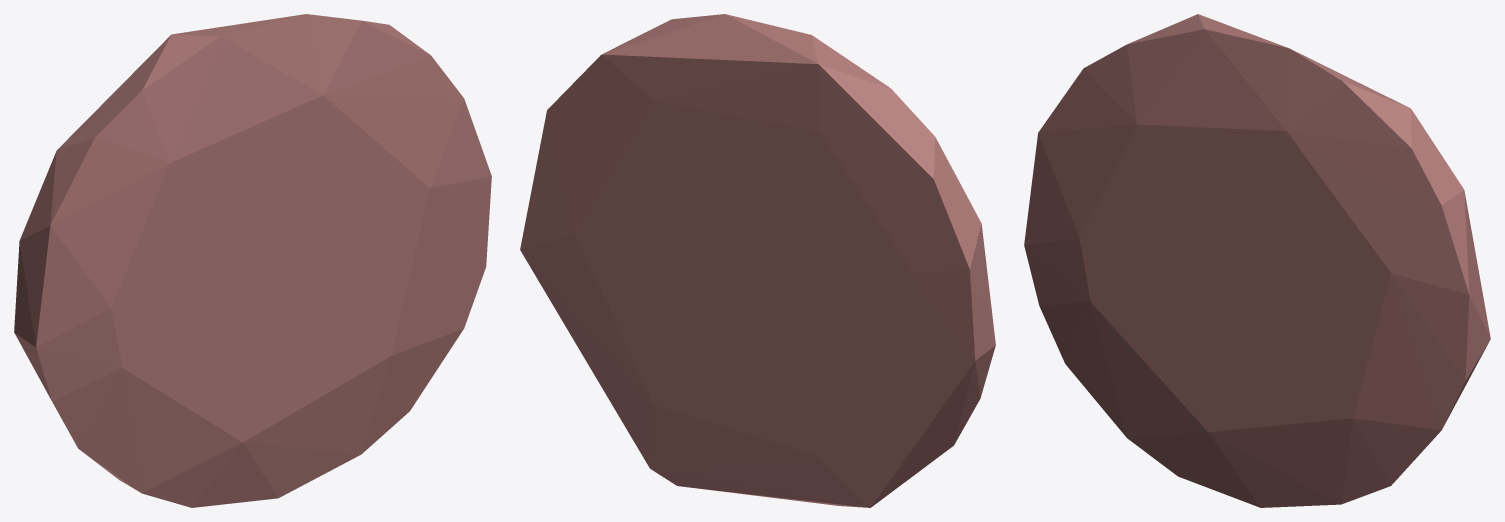
Rendered from consumable_oil_seal_large_c01.glb.
3 views of the same model, side by side, from view 1: azimuth 30°, elevation 25°; view 2: azimuth 150°, elevation 25°; view 3: azimuth 330°, elevation 25° (orthographic). The views are drawn at different scales.
Parts seen in each view (by area): view 1: geometry_0; view 2: geometry_0; view 3: geometry_0.
Boxes of the visible parts, box(x1,y1,x2,y2) form: geometry_0: box(14, 14, 491, 507); geometry_0: box(520, 14, 995, 507); geometry_0: box(1024, 14, 1490, 507).
Size of the model in its own units: 0.4762 by 0.4746 by 0.0571.
